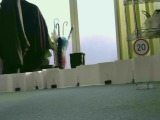speed_20: (131, 37, 151, 57)
